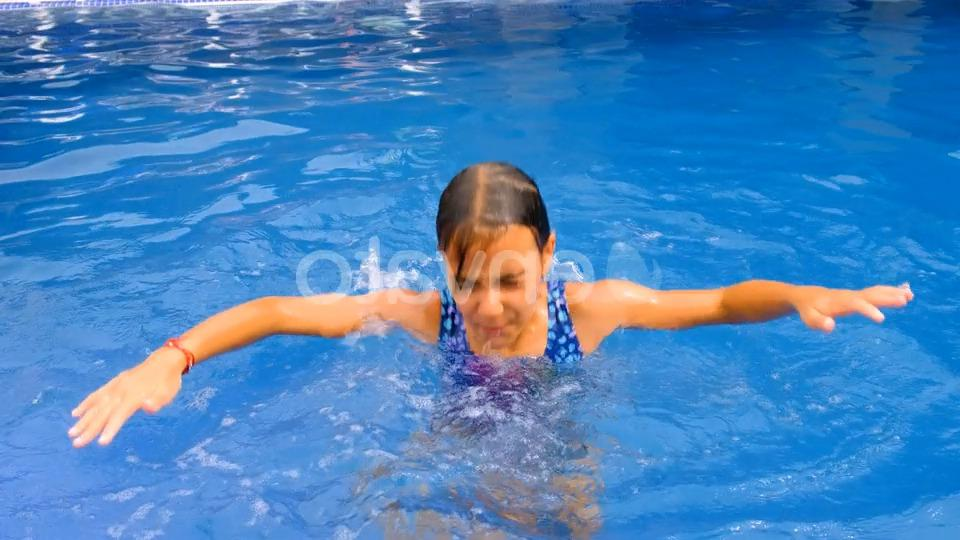Drowning: (86, 65, 911, 460)
